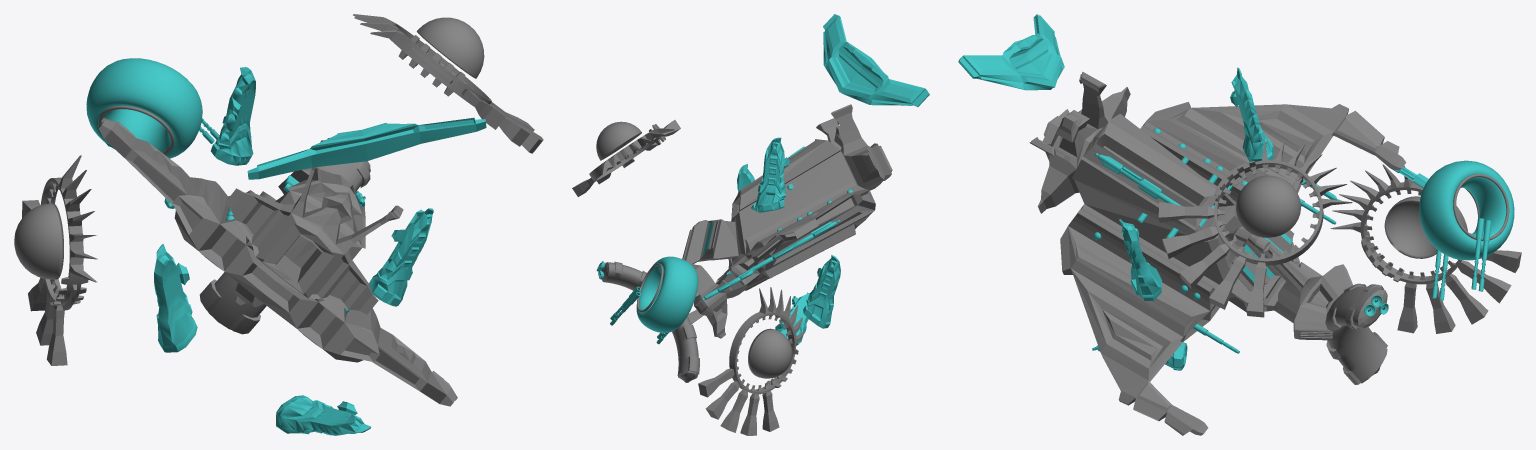
File: EpaveGros.fbx
3 views of the same model, side by side, from view 1: azimuth 30°, elevation 25°; view 2: azimuth 150°, elevation 25°; view 3: azimuth 270°, elevation 25° (orthographic). The views are drawn at different scales.
Parts seen in each view (by area): view 1: Epave gros; view 2: Epave gros; view 3: Epave gros.
Part boxes in pixels (x1,y1,x2,y2): Epave gros: (14, 14, 543, 435); Epave gros: (572, 14, 929, 435); Epave gros: (958, 14, 1521, 435).
Size of the model in its own units: 1056 by 1443 by 960.
